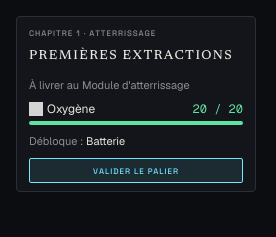
it: NextGoalPanel › completes the milestone, confirms it briefly and moves to the next one
Later steps or results of the test are not shown.
Click the button "Valider le palier" at [136, 170], box [29,158,243,183]
Wait 5000 ms
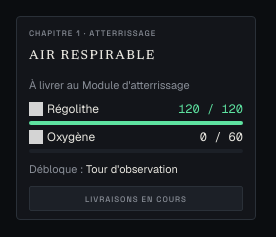
Expected: the heading "Air respirable" is shown, [29,46,156,64]
